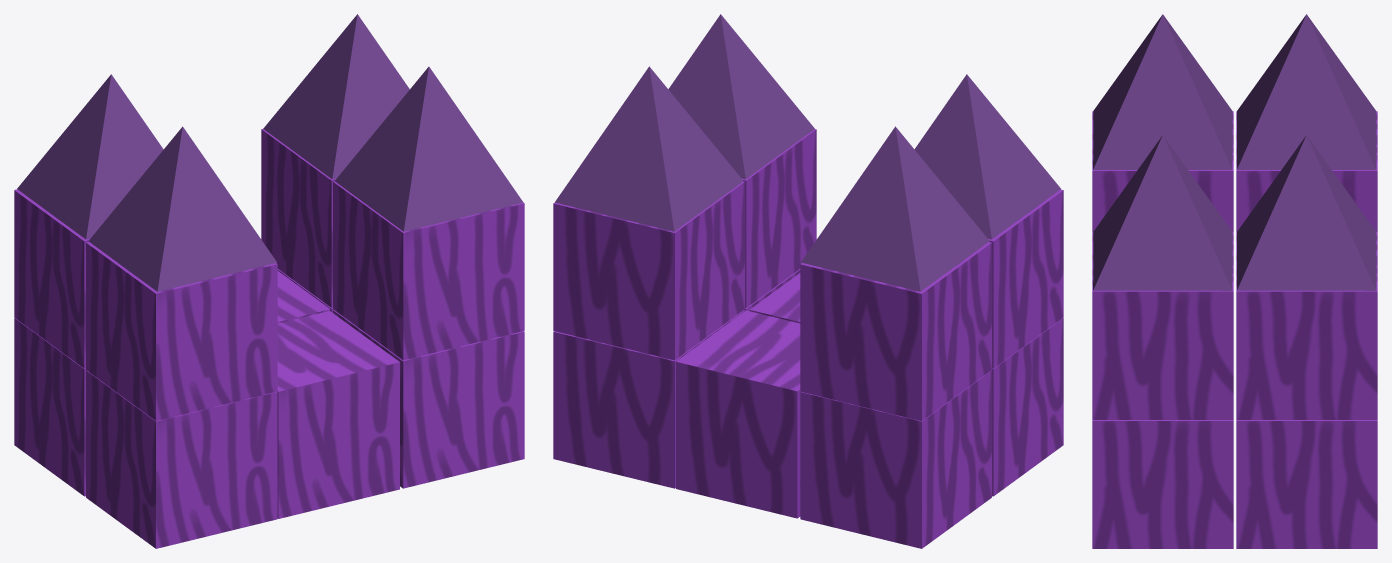
Rendered from Level1-3üst.fbx.
3 renders of one model, left to right at view 1: azimuth 30°, elevation 25°; view 2: azimuth 150°, elevation 25°; view 3: azimuth 270°, elevation 25°, orthographic.
Parts seen in each view (by area): view 1: Cube.009, Cube.007, Cube.001, Cube.002, Cube.003, Cube.015, Cube.025, Cube.020, Cube.030, Cube.010, Cube.004, Cube.008 (+1 smaller); view 2: Cube.010, Cube.008, Cube.004, Cube.005, Cube.020, Cube.030, Cube.006, Cube.015, Cube.025, Cube.009, Cube.001, Cube.007 (+1 smaller); view 3: Cube.007, Cube.008, Cube.003, Cube.006, Cube.015, Cube.020, Cube.025, Cube.030, Cube.009, Cube.010.
Boxes of the visible parts, x1=… form: Cube.009: x1=86, y1=242, x2=277, y2=420; Cube.007: x1=333, y1=181, x2=524, y2=360; Cube.001: x1=86, y1=370, x2=277, y2=548; Cube.002: x1=277, y1=311, x2=399, y2=518; Cube.003: x1=333, y1=310, x2=524, y2=488; Cube.015: x1=335, y1=66, x2=523, y2=231; Cube.025: x1=88, y1=126, x2=276, y2=291; Cube.020: x1=263, y1=14, x2=409, y2=179; Cube.030: x1=17, y1=74, x2=163, y2=239; Cube.010: x1=14, y1=189, x2=89, y2=368; Cube.004: x1=14, y1=317, x2=85, y2=496; Cube.008: x1=261, y1=129, x2=336, y2=307; Cube.010: x1=800, y1=242, x2=991, y2=420; Cube.008: x1=553, y1=181, x2=744, y2=360; Cube.004: x1=800, y1=370, x2=991, y2=548; Cube.005: x1=676, y1=310, x2=800, y2=518; Cube.020: x1=555, y1=66, x2=743, y2=231; Cube.030: x1=801, y1=126, x2=989, y2=291; Cube.006: x1=553, y1=310, x2=744, y2=488; Cube.015: x1=668, y1=14, x2=814, y2=179; Cube.025: x1=914, y1=74, x2=1060, y2=239; Cube.009: x1=988, y1=189, x2=1063, y2=368; Cube.001: x1=992, y1=318, x2=1063, y2=496; Cube.007: x1=742, y1=129, x2=816, y2=307; Cube.007: x1=1092, y1=232, x2=1233, y2=419; Cube.008: x1=1236, y1=232, x2=1377, y2=419; Cube.003: x1=1092, y1=420, x2=1233, y2=548; Cube.006: x1=1236, y1=420, x2=1377, y2=548; Cube.015: x1=1093, y1=135, x2=1232, y2=290; Cube.020: x1=1237, y1=135, x2=1376, y2=290; Cube.025: x1=1093, y1=14, x2=1232, y2=169; Cube.030: x1=1237, y1=14, x2=1376, y2=169; Cube.009: x1=1092, y1=111, x2=1233, y2=231; Cube.010: x1=1236, y1=111, x2=1377, y2=231.
Bounding box in the file's own units: 801 × 793 × 534.
